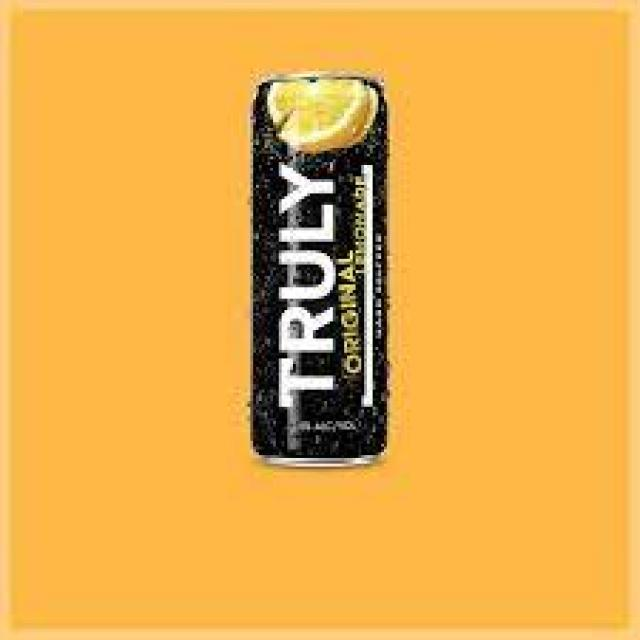Cans: (245, 66, 401, 467)
